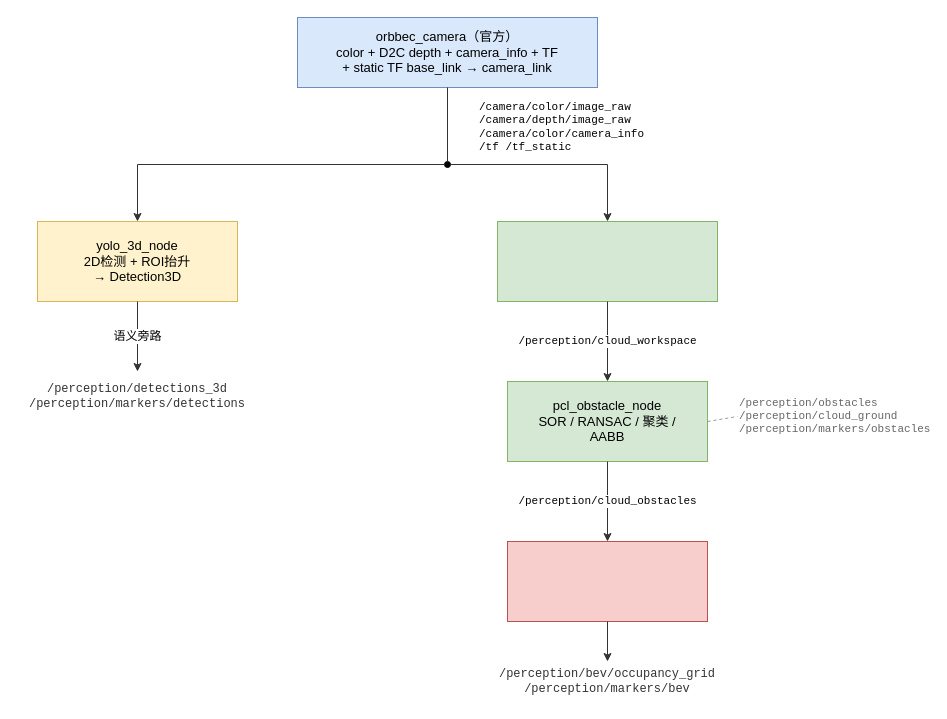
Image size: 947x719. Some labels were removed from this diagram. The shapes that lost their labels are listed below. From the top down, each one's box as (x1, y1, x2, y2) in pixels, then its label:
(496, 220, 718, 302): cloud_workspace_node 稀疏反投影 / TF / 裁剪 / 体素
(506, 540, 708, 622): bev_node OccupancyGrid + Marker
